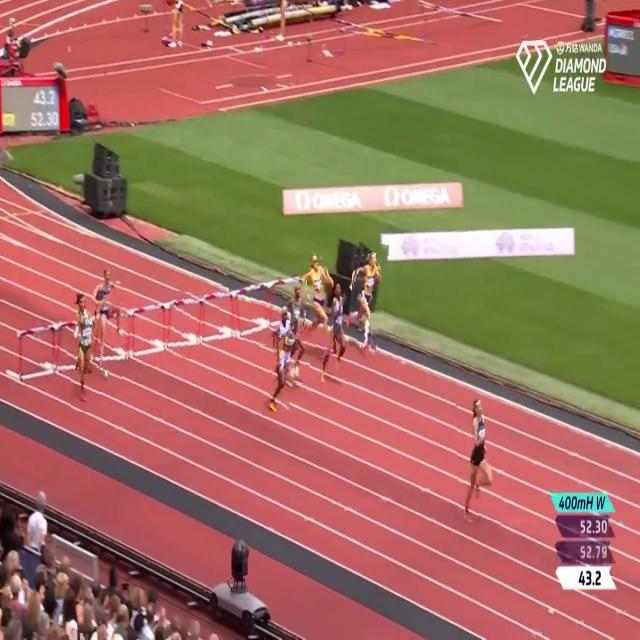athlete: (456, 393, 501, 532), (347, 242, 386, 360), (266, 307, 302, 418), (72, 285, 102, 412), (300, 245, 334, 357), (94, 266, 124, 387), (324, 277, 352, 389), (286, 281, 310, 384)
hurdle: (90, 304, 133, 373), (13, 319, 56, 385), (231, 284, 271, 347), (130, 298, 167, 366), (167, 291, 204, 359), (54, 314, 95, 373), (268, 277, 306, 339), (203, 284, 236, 349)
